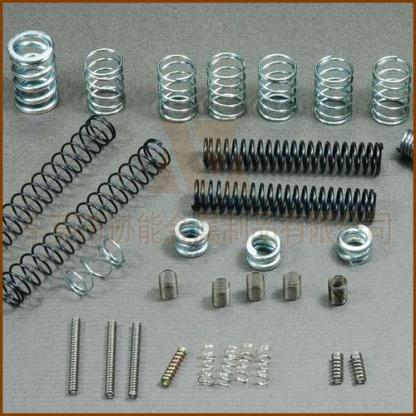FOD: (0, 136, 173, 308), (0, 110, 117, 246), (192, 175, 379, 226), (200, 134, 387, 176), (6, 29, 62, 116), (62, 237, 126, 299), (154, 51, 200, 124), (312, 53, 356, 128), (369, 55, 414, 128), (255, 51, 299, 124), (205, 50, 249, 121), (83, 45, 126, 116), (243, 230, 285, 272), (336, 222, 374, 266), (173, 218, 211, 260), (158, 345, 190, 390), (67, 314, 84, 395), (126, 319, 143, 399), (102, 319, 118, 400), (252, 342, 274, 388), (196, 342, 218, 388), (220, 342, 240, 387), (326, 272, 349, 308), (209, 276, 233, 310), (329, 349, 346, 388), (351, 349, 367, 386)
